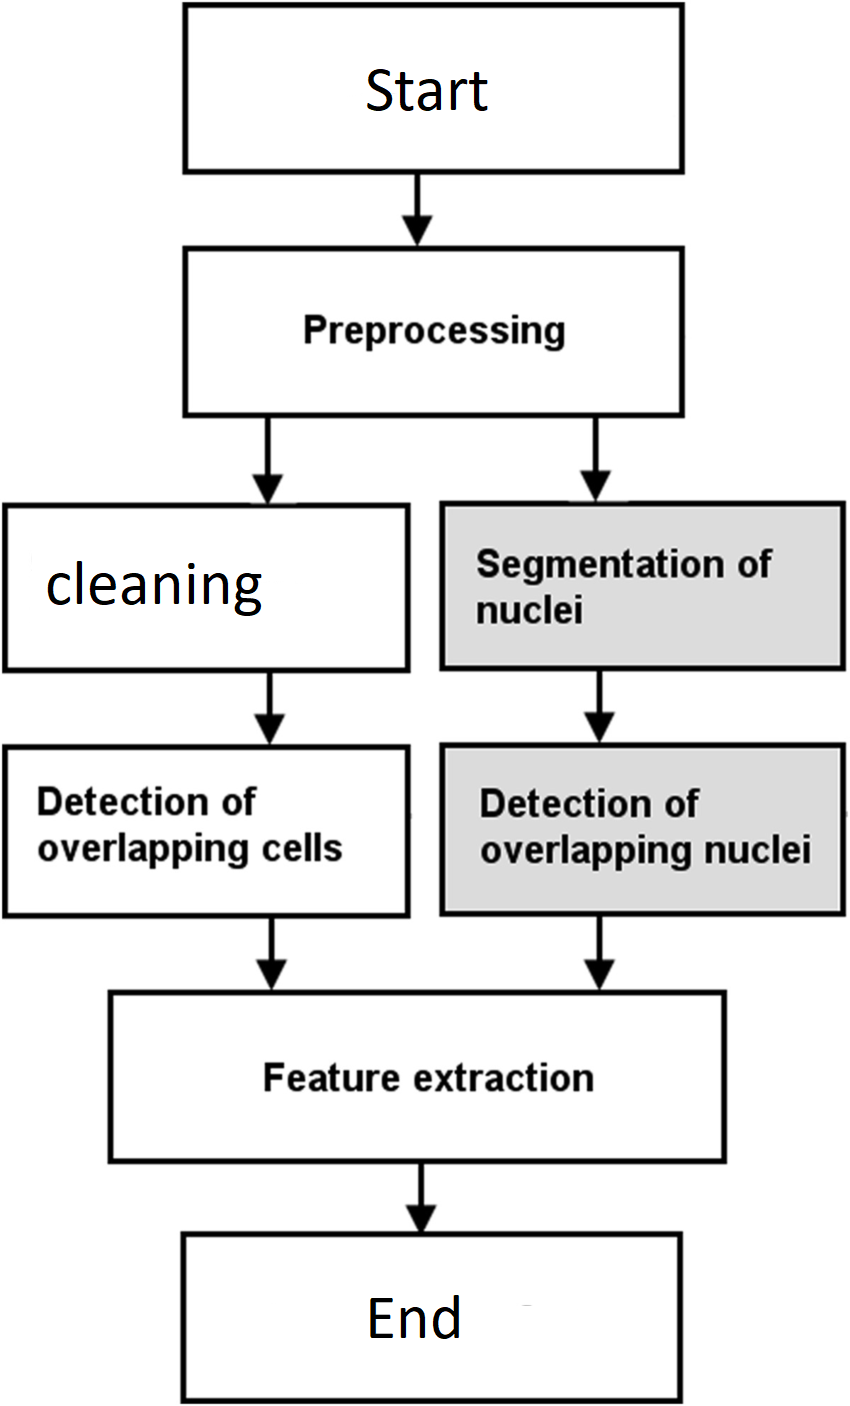arrow: (244, 913, 298, 996), (572, 409, 617, 504), (579, 904, 625, 994), (398, 1155, 442, 1241), (247, 409, 285, 507), (251, 666, 291, 745), (581, 666, 621, 743), (400, 166, 434, 247)
process: (98, 981, 734, 1170), (172, 1224, 697, 1406), (176, 236, 689, 421), (172, 1, 693, 181), (4, 738, 419, 928), (432, 734, 850, 922), (434, 494, 847, 675), (4, 498, 417, 679)
text: (474, 781, 817, 877), (23, 775, 353, 870), (470, 541, 779, 632), (38, 555, 264, 624), (259, 1054, 596, 1100), (296, 304, 568, 355), (359, 58, 493, 119), (359, 1288, 464, 1343)
